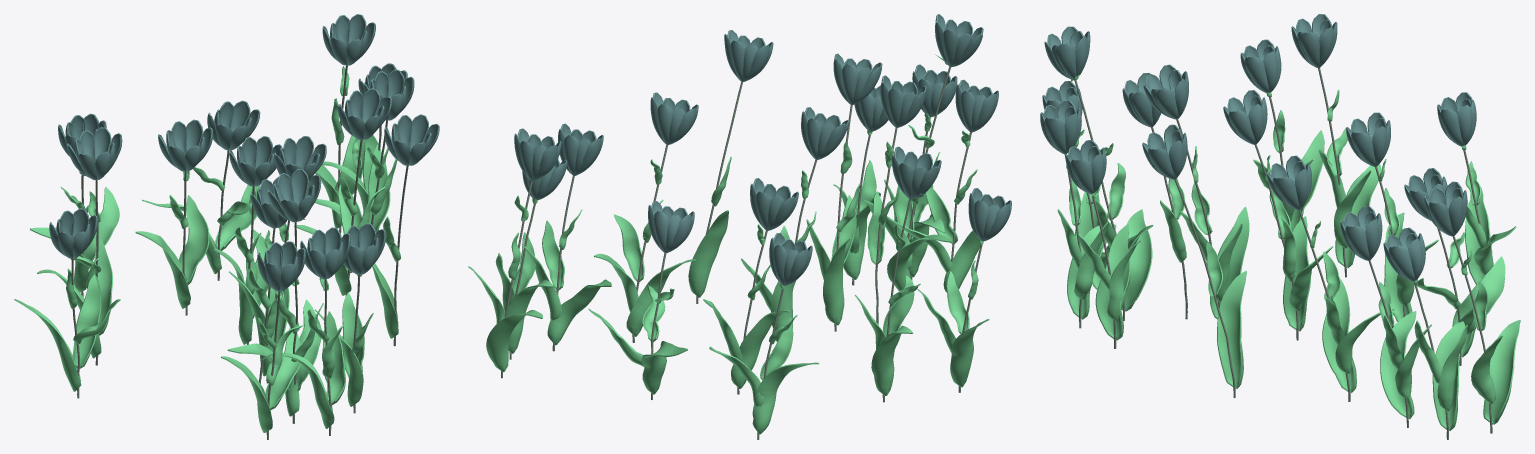
Rendered from Flowers.fbx.
The picture shows the model from 3 angles, left to right: view 1: azimuth 30°, elevation 25°; view 2: azimuth 150°, elevation 25°; view 3: azimuth 270°, elevation 25°; orthographic projection. The views are drawn at different scales.
Visible parts, largest first — view 1: tulips1Leaf, tulips1Flower, tulips1Main; view 2: tulips1Leaf, tulips1Flower, tulips1Main; view 3: tulips1Leaf, tulips1Flower, tulips1Main.
Part boxes in pixels (x1,y1,x2,y2): tulips1Leaf: (14,66,400,432); tulips1Flower: (49,14,439,291); tulips1Main: (71,65,408,439); tulips1Leaf: (468,54,989,434); tulips1Flower: (514,14,1011,285); tulips1Main: (501,66,982,439); tulips1Leaf: (1057,75,1520,430); tulips1Flower: (1040,14,1476,281); tulips1Main: (1064,68,1492,439).
Size of the model in its own units: 2.02 by 1.2 by 1.88.
